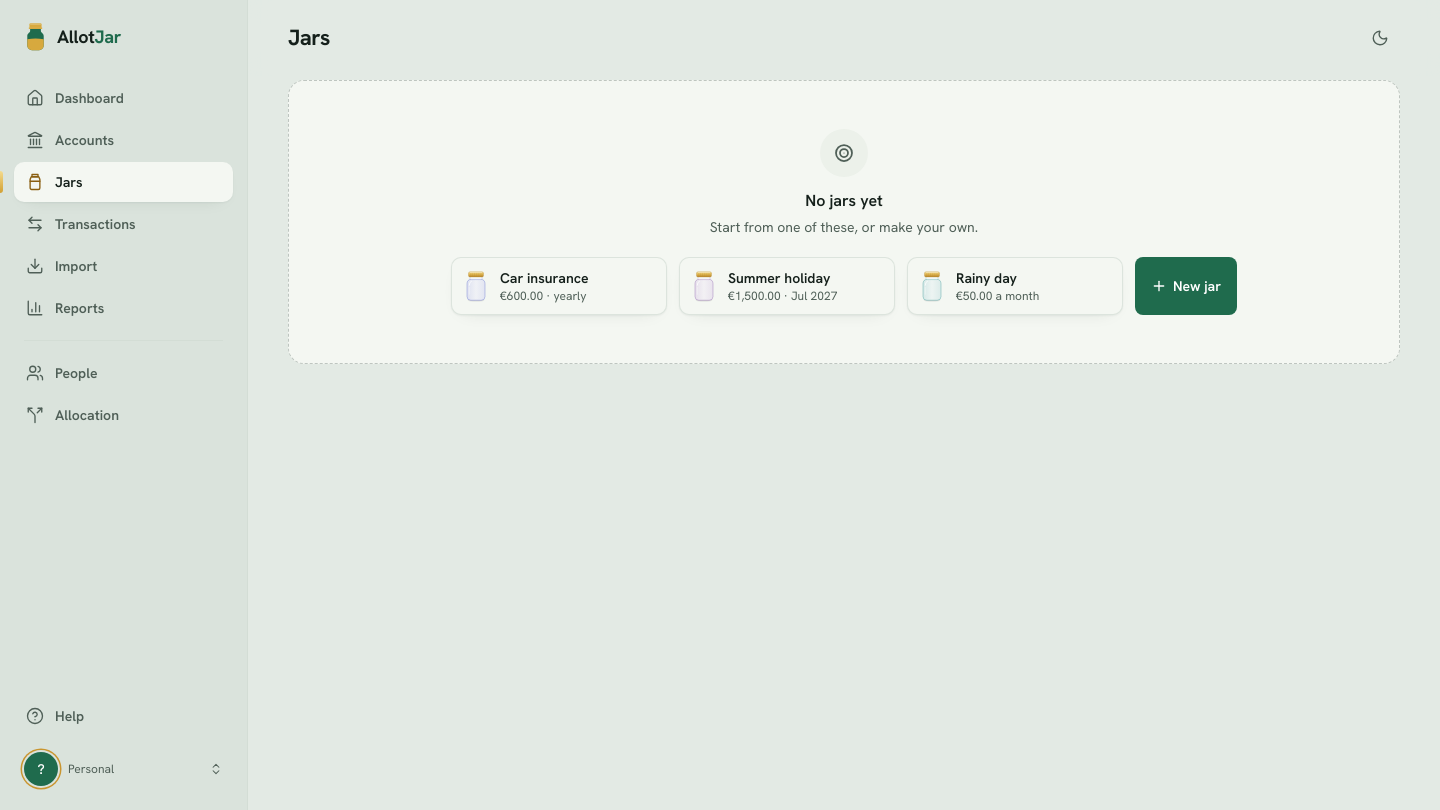
it: JarsPage — example jars on the empty page › the holiday is a one-off saving by Jul 2027
Click the button "Summer holiday €1,500.00 · Jul 2027" at (787, 286), box [679,257,895,315]
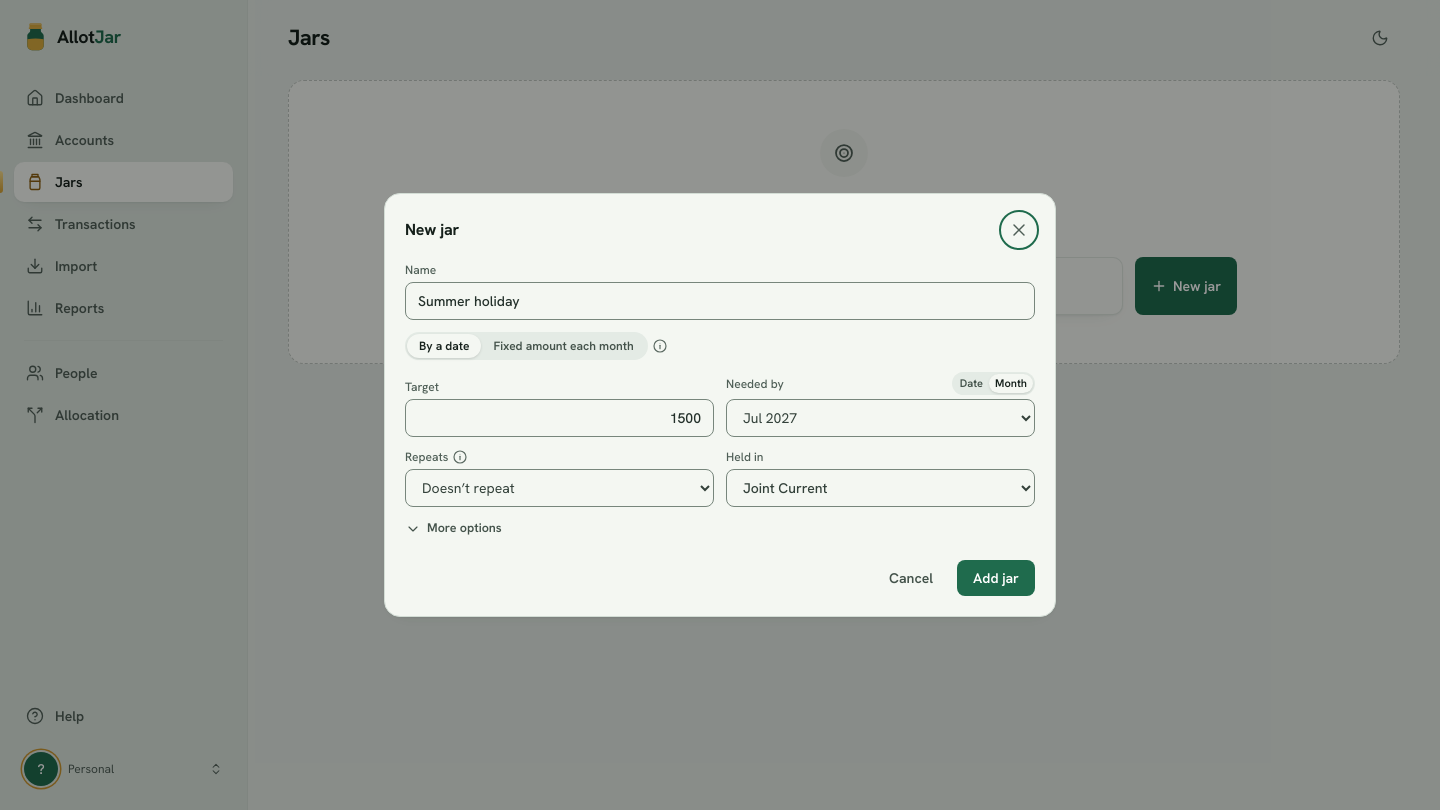
Result: the field named "Jar name" holds "Summer holiday" at [405,282,1035,320]
Result: the field named "Target amount" holds "1500" at [405,399,714,437]
Result: the dropdown labelled "Repeats" shows "Doesn’t repeat" at [405,469,714,507]
